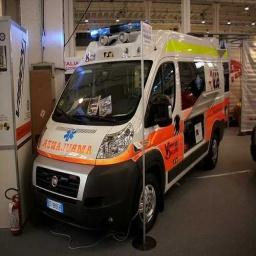ambulance: (33, 23, 223, 229)
